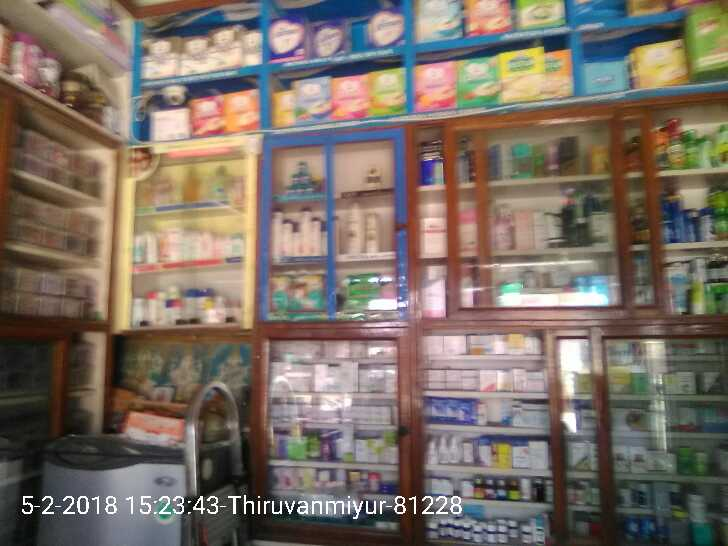vicks: (282, 157, 322, 198)
